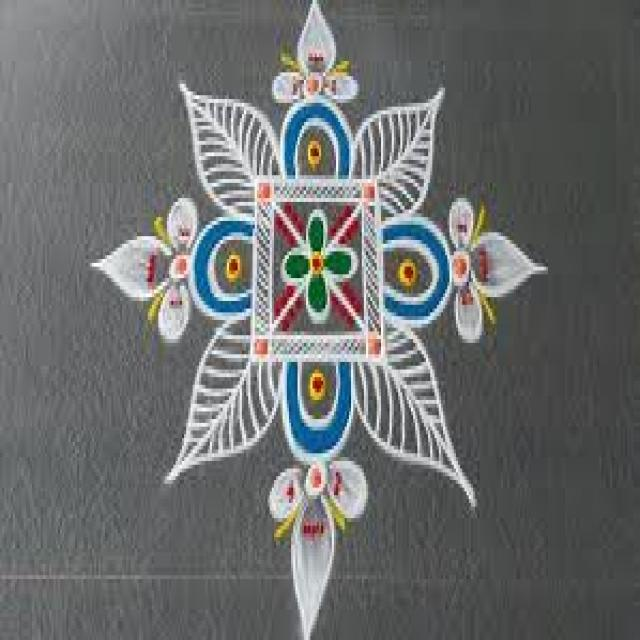rangoli: (83, 0, 548, 638)
